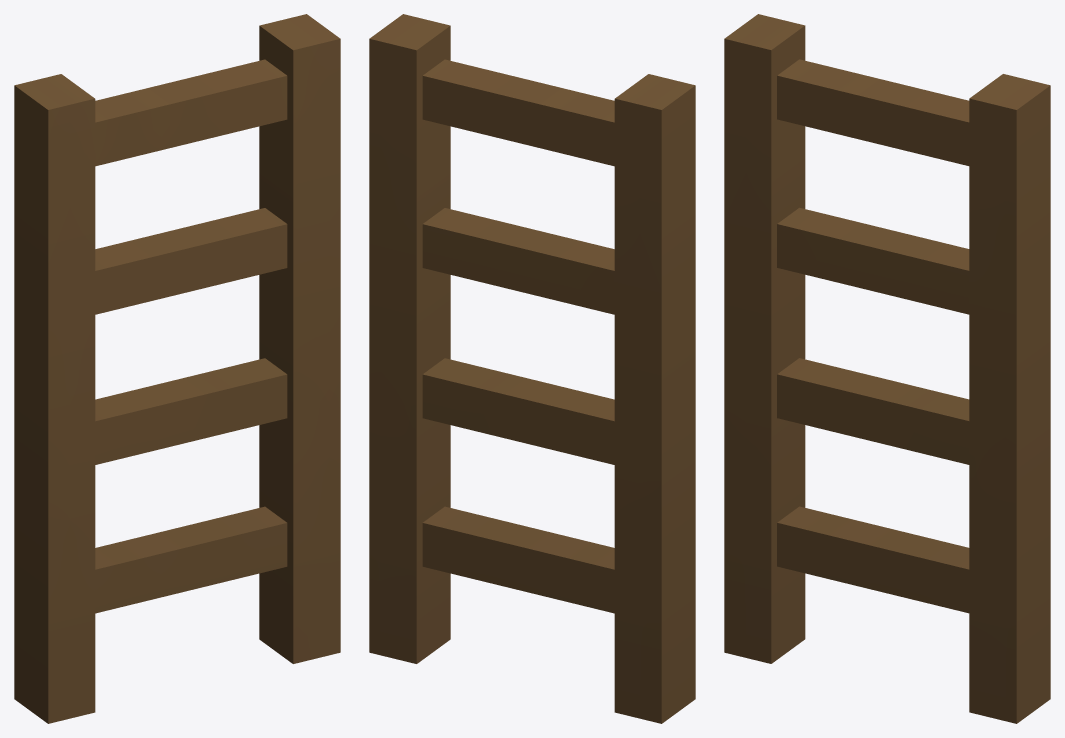
Rendered from Ladder001.fbx.
3 renders of one model, left to right at view 1: azimuth 30°, elevation 25°; view 2: azimuth 150°, elevation 25°; view 3: azimuth 330°, elevation 25°, orthographic.
Parts seen in each view (by area): view 1: Cube.020; view 2: Cube.020; view 3: Cube.020.
Boxes of the visible parts, box(x1,y1,x2,y2) form: Cube.020: box(14, 14, 340, 723); Cube.020: box(369, 14, 695, 723); Cube.020: box(724, 14, 1050, 723).
Bounding box in the file's own units: 136 × 272 × 27.21.
